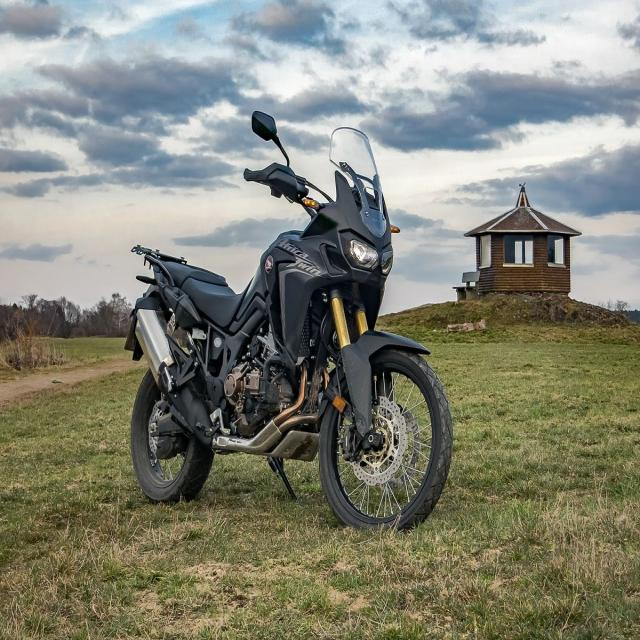Motorcycle: (125, 127, 453, 529)
